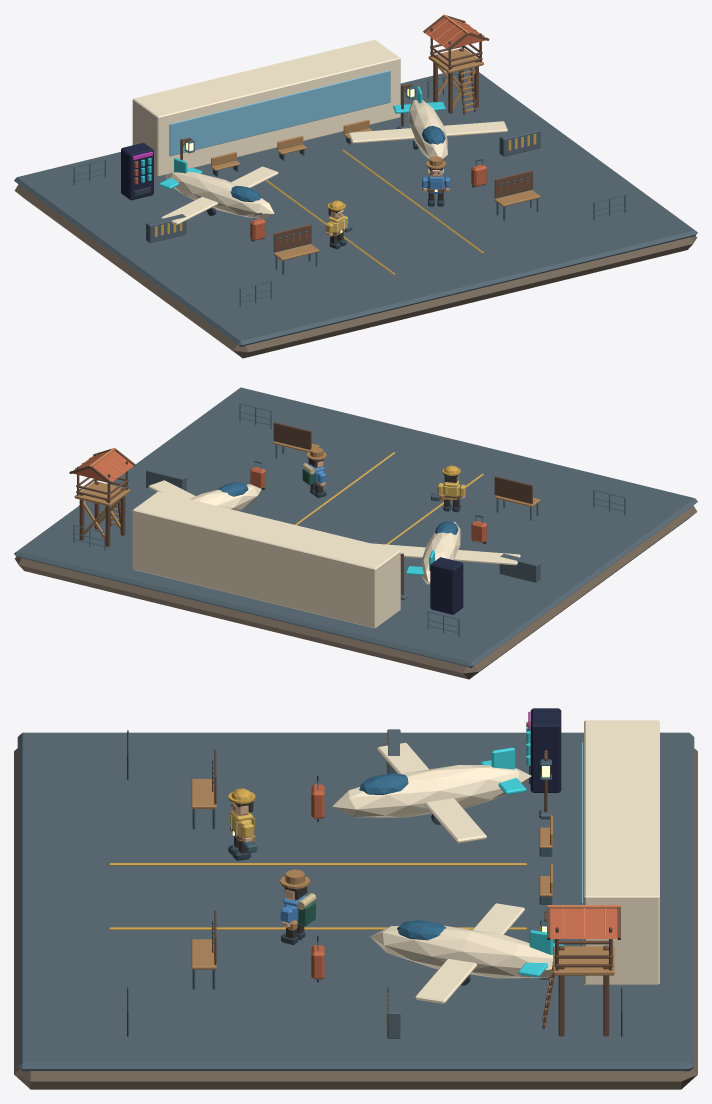
The model's file is world-airport.glb.
3 views of the same model, one above another, from view 1: azimuth 30°, elevation 25°; view 2: azimuth 150°, elevation 25°; view 3: azimuth 270°, elevation 25° (orthographic). The views are drawn at different scales.
Visible parts, largest first — view 1: terrain-top, terminal-building, terrain-stratum, terminal-glass, fuselage.001, wing.002, vending-body.001, fuselage.002, wing.001, tower-canopy.001, barrier.002, pegboard.002 (+3 smaller); view 2: terrain-top, terminal-building, terrain-stratum, vending-body.001, wing.001, fuselage.001, tower-canopy.001, fuselage.002, barrier.001, pegboard.001, pegboard.002, tower-deck.001 (+1 smaller); view 3: terrain-top, terminal-building, terrain-stratum, fuselage.001, fuselage.002, wing.002, vending-body.001, wing.001, tower-canopy.001, tower-deck.001, taxiway-line, taxiway-line.001 (+5 smaller).
Boxes of the visible parts, x1,y1,x2,y2 form: terrain-top: [14, 68, 697, 346]; terminal-building: [132, 39, 400, 176]; terrain-stratum: [14, 184, 697, 358]; terminal-glass: [169, 70, 390, 156]; fuselage.001: [165, 171, 274, 218]; wing.002: [348, 121, 507, 143]; vending-body.001: [121, 142, 153, 200]; fuselage.002: [408, 100, 447, 160]; wing.001: [161, 166, 278, 224]; tower-canopy.001: [425, 17, 485, 48]; barrier.002: [499, 127, 540, 156]; pegboard.002: [494, 170, 532, 198]; terrain-top: [14, 387, 697, 667]; terminal-building: [132, 491, 400, 628]; terrain-stratum: [14, 505, 697, 679]; vending-body.001: [430, 557, 463, 614]; wing.001: [371, 543, 520, 565]; fuselage.001: [421, 521, 460, 584]; tower-canopy.001: [73, 450, 133, 481]; fuselage.002: [190, 484, 261, 510]; barrier.001: [499, 553, 540, 582]; pegboard.001: [494, 476, 532, 503]; pegboard.002: [273, 422, 311, 449]; tower-deck.001: [74, 481, 130, 506]; terrain-top: [17, 732, 694, 1071]; terminal-building: [584, 720, 659, 984]; terrain-stratum: [14, 748, 697, 1089]; fuselage.001: [332, 765, 531, 817]; fuselage.002: [370, 925, 553, 978]; wing.002: [415, 903, 524, 1003]; vending-body.001: [530, 708, 561, 792]; wing.001: [377, 742, 486, 843]; tower-canopy.001: [550, 909, 617, 938]; tower-deck.001: [553, 946, 614, 975]; taxiway-line: [109, 863, 526, 865]; taxiway-line.001: [109, 927, 526, 929].
Bounding box in the file's own units: 21 × 4.38 × 18.
